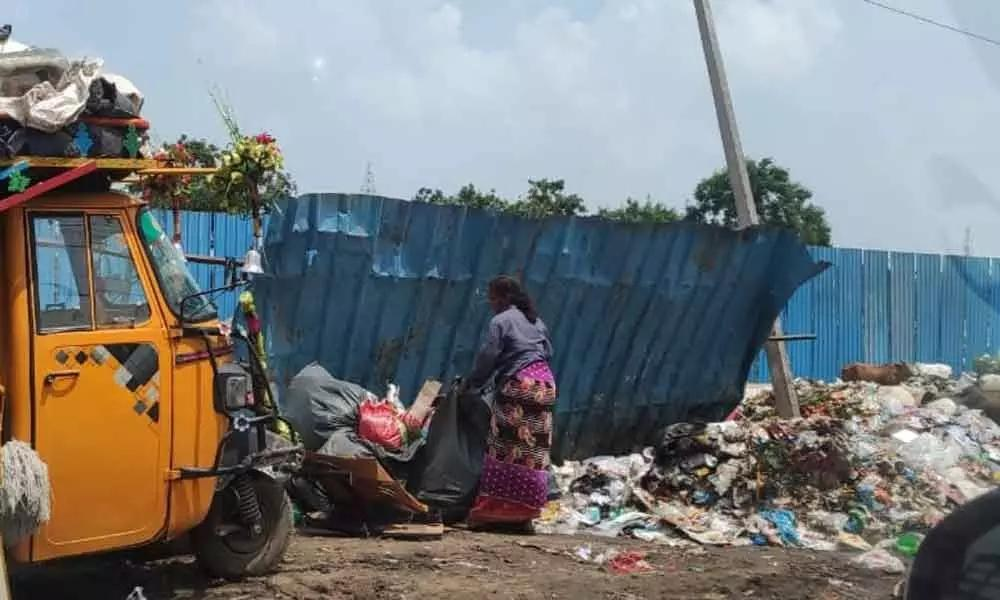garbage: (561, 315, 1000, 585), (0, 14, 254, 190)
